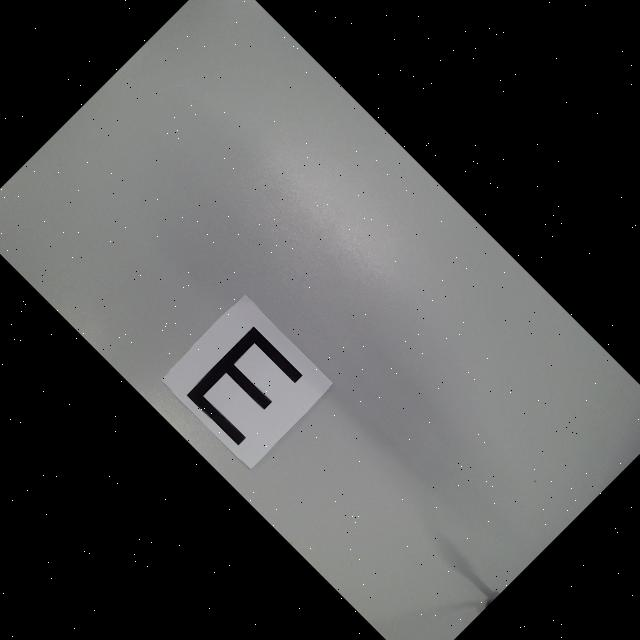FAKE: (184, 326, 306, 448)
